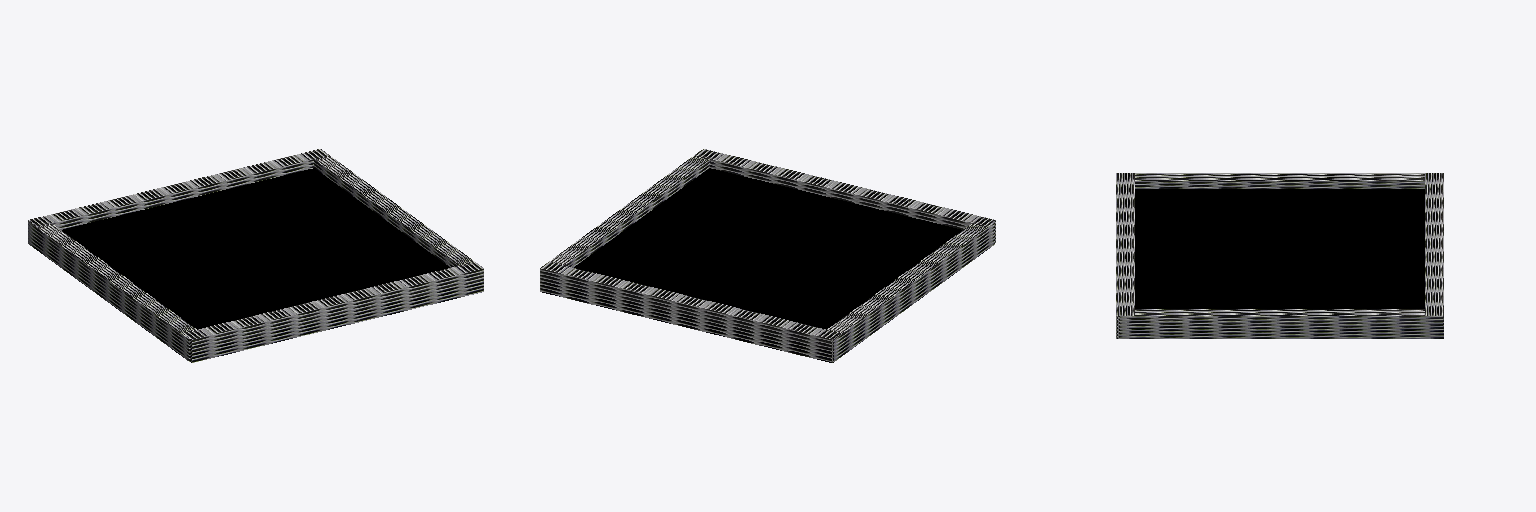
3 renders of one model, left to right at view 1: azimuth 30°, elevation 25°; view 2: azimuth 150°, elevation 25°; view 3: azimuth 270°, elevation 25°, orthographic.
Parts seen in each view (by area): view 1: pCube1, pasted__pasted__pCube2 pasted__group group1, pasted__pasted__pasted__pCube2 pasted__pasted__group2 pasted__gr, pasted__pasted__pasted__pCube2 pasted__pasted__group pasted__gro, pasted__pasted__pCube2 pasted__group2 group3; view 2: pCube1, pasted__pasted__pasted__pCube2 pasted__pasted__group pasted__gro, pasted__pasted__pasted__pCube2 pasted__pasted__group2 pasted__gr, pasted__pasted__pCube2 pasted__group group1, pasted__pasted__pCube2 pasted__group2 group3; view 3: pCube1, pasted__pasted__pCube2 pasted__group2 group3, pasted__pasted__pasted__pCube2 pasted__pasted__group2 pasted__gr, pasted__pasted__pCube2 pasted__group group1, pasted__pasted__pasted__pCube2 pasted__pasted__group pasted__gro.
Boxes of the visible parts, x1,y1,x2,y2 form: pCube1: [62, 168, 449, 329]; pasted__pasted__pCube2 pasted__group group1: [183, 262, 483, 362]; pasted__pasted__pasted__pCube2 pasted__pasted__group2 pasted__gr: [28, 221, 196, 361]; pasted__pasted__pasted__pCube2 pasted__pasted__group pasted__gro: [28, 149, 328, 229]; pasted__pasted__pCube2 pasted__group2 group3: [314, 149, 481, 267]; pCube1: [574, 168, 961, 329]; pasted__pasted__pasted__pCube2 pasted__pasted__group pasted__gro: [540, 262, 840, 362]; pasted__pasted__pasted__pCube2 pasted__pasted__group2 pasted__gr: [827, 222, 994, 362]; pasted__pasted__pCube2 pasted__group group1: [695, 149, 995, 242]; pasted__pasted__pCube2 pasted__group2 group3: [542, 151, 709, 267]; pCube1: [1135, 189, 1424, 308]; pasted__pasted__pCube2 pasted__group2 group3: [1120, 309, 1442, 338]; pasted__pasted__pasted__pCube2 pasted__pasted__group2 pasted__gr: [1135, 173, 1424, 188]; pasted__pasted__pCube2 pasted__group group1: [1116, 173, 1134, 338]; pasted__pasted__pasted__pCube2 pasted__pasted__group pasted__gro: [1425, 173, 1443, 338].
Bounding box in the file's own units: 18.6 × 1.41 × 17.94.
5 materials, 1 textured.